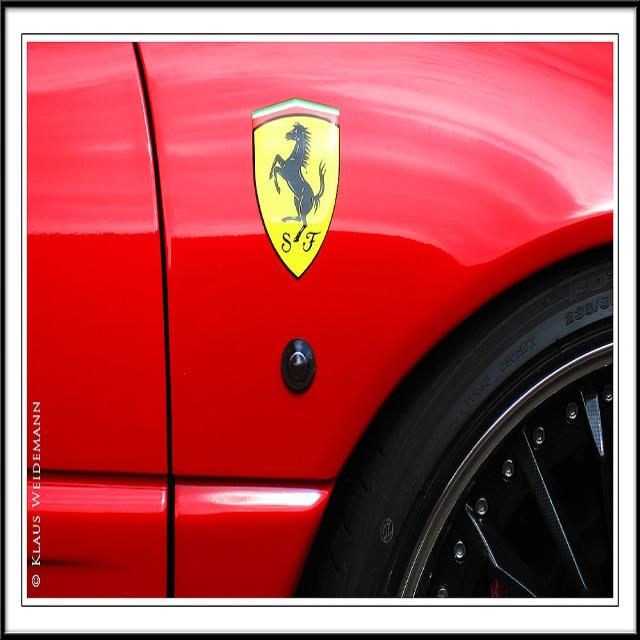ferrari: (250, 96, 348, 286)
